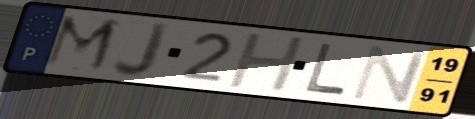2: (178, 31, 237, 84)
H: (224, 32, 310, 93)
J: (110, 20, 173, 80)
L: (303, 41, 350, 97)
M: (38, 12, 125, 76)
N: (348, 44, 433, 104)
